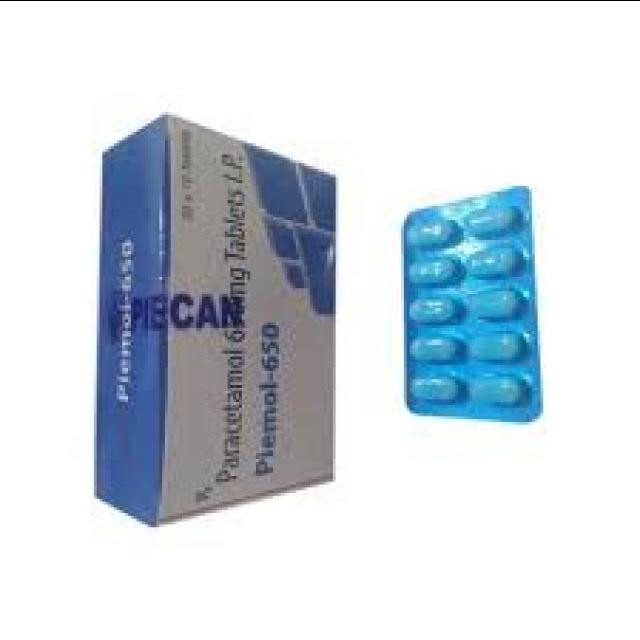authentic: (72, 102, 358, 542), (388, 167, 557, 429)
